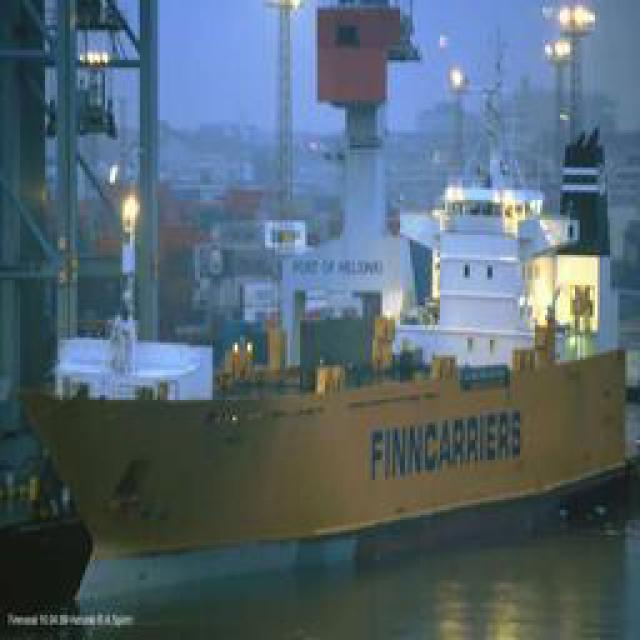Ship: (18, 115, 640, 562)
